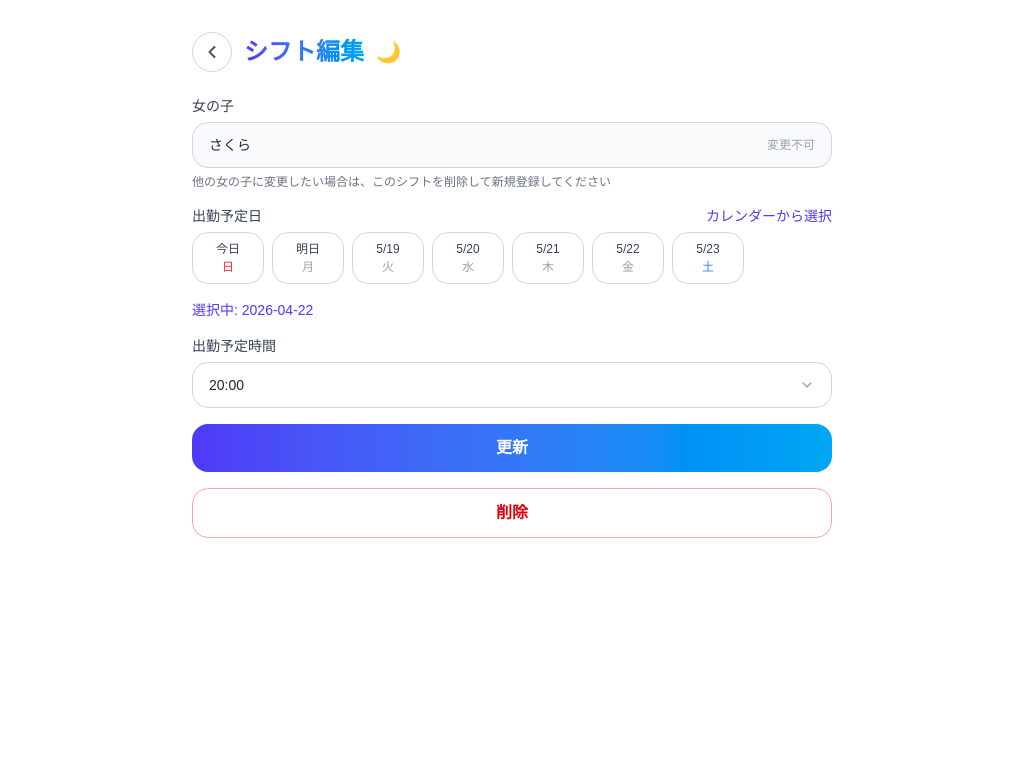
Test: シフト編集ページ › 削除ボタン→ダイアログのキャンセルでdeleteが呼ばれない
The image size is (1024, 768).
Check: the field named "女の子" shows "さくら", box [209,137,251,153]
Click the button "削除".
click(512, 513)  # box [192,488,832,538]
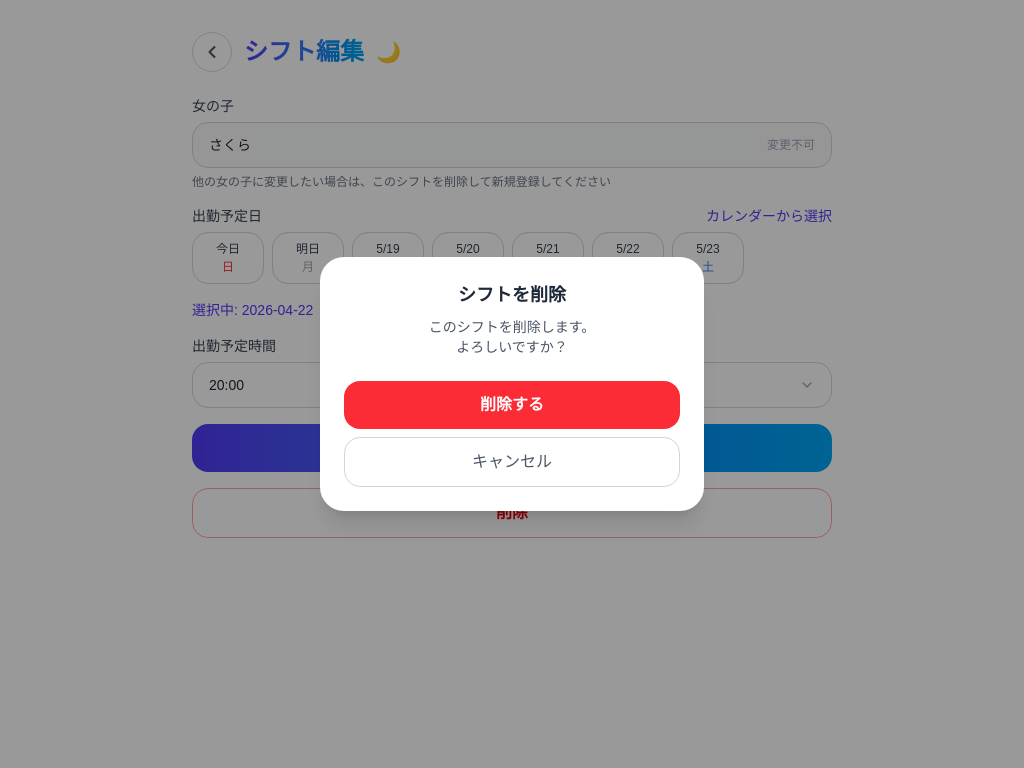
Check: the button "削除する" is shown, box [344,381,680,429]
Click the button "キャンセル".
click(512, 462)  # box [344,437,680,487]
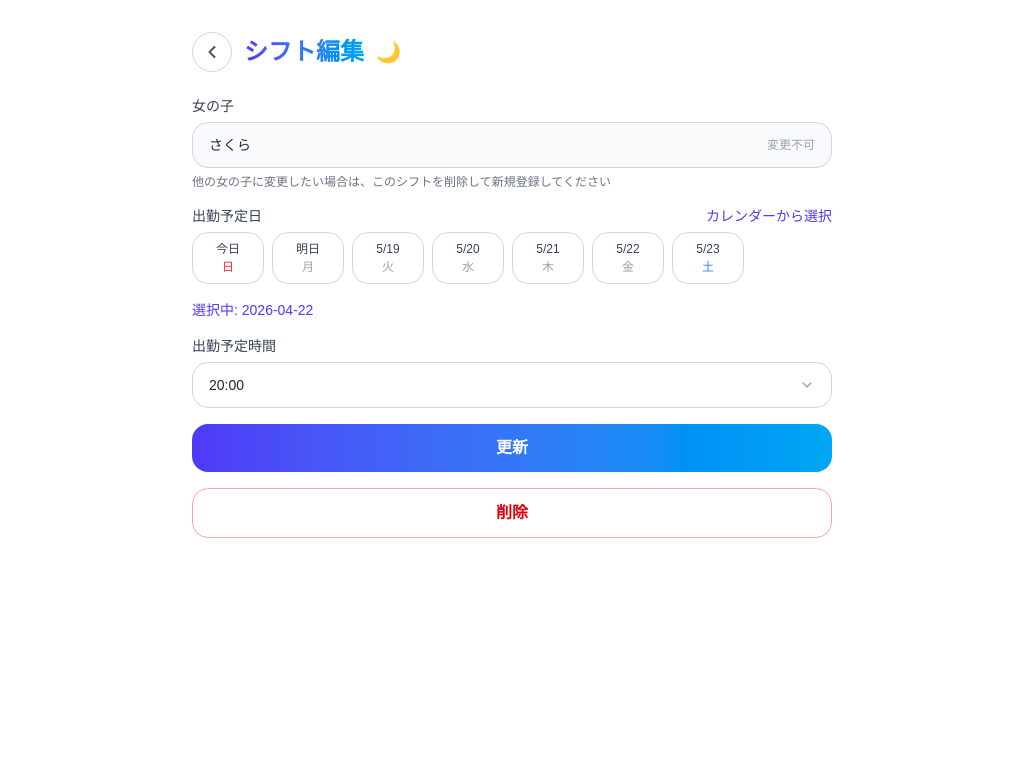
Check: the button "削除する" is gone
